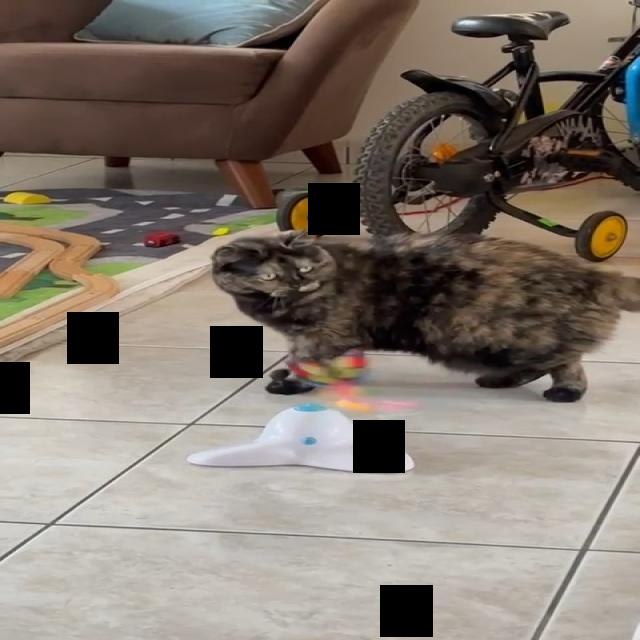authorized: (209, 226, 639, 402)
